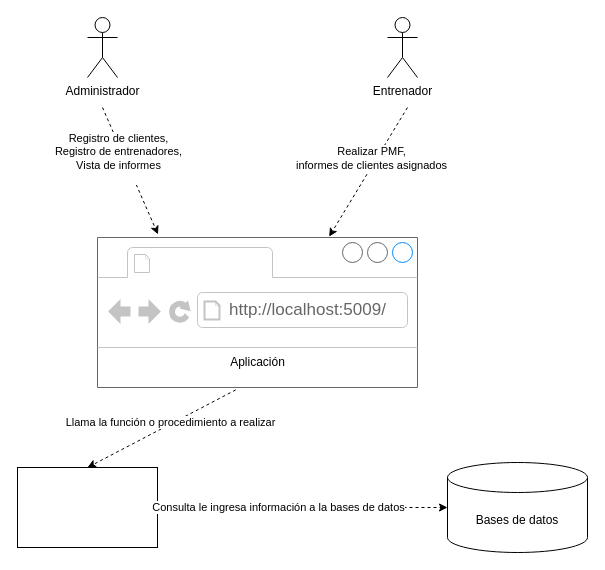
Image size: 605x570. Some labels were removed from this diagram. Each missing label, with the centre of its shape:
Controlador: the point at 87,507
ManageFit: the point at 212,262
